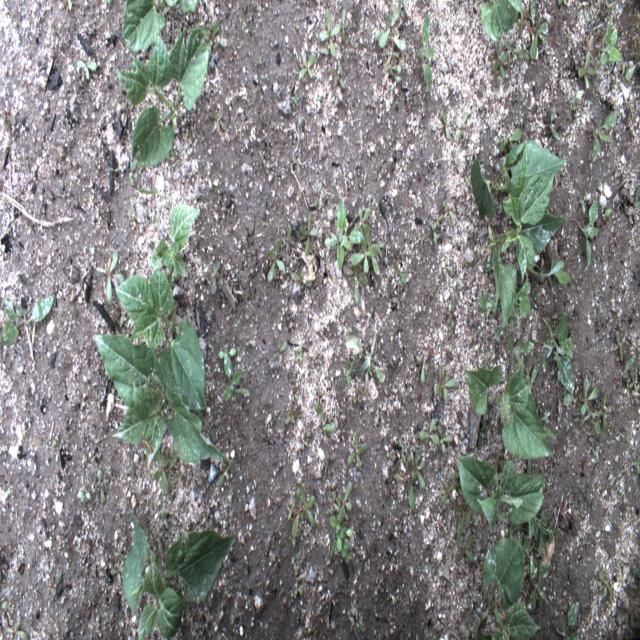crop: (91, 334, 226, 469), (123, 509, 234, 639), (490, 149, 568, 318), (116, 26, 211, 164), (116, 270, 206, 413), (467, 139, 565, 222), (468, 366, 554, 460), (457, 456, 545, 535), (475, 536, 543, 636), (147, 202, 200, 278), (122, 0, 199, 52), (479, 0, 525, 41)
weed: (0, 295, 56, 347), (541, 314, 577, 391), (324, 202, 364, 271), (346, 333, 384, 382), (416, 15, 438, 94), (93, 248, 123, 302), (532, 244, 571, 282), (525, 513, 560, 555), (580, 198, 600, 266), (591, 110, 617, 160), (509, 282, 534, 333), (223, 353, 247, 404), (193, 18, 230, 51), (528, 559, 550, 613), (408, 451, 426, 514), (328, 518, 355, 560), (530, 3, 549, 60), (343, 266, 370, 306), (374, 7, 400, 48), (346, 427, 368, 472), (322, 7, 341, 58), (299, 210, 320, 256), (577, 376, 599, 419), (265, 237, 286, 282), (386, 260, 410, 299), (349, 239, 378, 271), (600, 24, 622, 66), (505, 335, 534, 365), (291, 482, 306, 536), (314, 400, 336, 436), (594, 393, 612, 437), (434, 368, 456, 404), (479, 283, 498, 324), (136, 164, 158, 198), (498, 128, 522, 159), (619, 353, 637, 393), (154, 451, 170, 495), (454, 534, 476, 566), (300, 492, 318, 531), (439, 471, 459, 506), (576, 52, 596, 87), (418, 418, 438, 452), (216, 457, 236, 490), (337, 481, 352, 522), (414, 348, 431, 384), (492, 41, 508, 79), (209, 262, 226, 297), (565, 599, 580, 638), (6, 614, 28, 639), (532, 351, 548, 385), (444, 296, 458, 334), (1, 97, 18, 128), (340, 360, 359, 387), (611, 328, 626, 362), (438, 196, 456, 224), (548, 103, 561, 141), (211, 105, 228, 134), (436, 427, 453, 456), (456, 507, 474, 534), (76, 58, 98, 80), (427, 216, 442, 248), (299, 53, 317, 79), (437, 111, 452, 141), (556, 394, 571, 424), (354, 207, 371, 233), (506, 38, 525, 61), (48, 572, 62, 602), (330, 63, 346, 89), (568, 87, 584, 113), (598, 572, 614, 597), (292, 272, 312, 292), (457, 112, 468, 146), (493, 317, 508, 341), (384, 58, 401, 78), (283, 222, 293, 254), (392, 458, 404, 484), (622, 62, 636, 84), (98, 466, 106, 504), (443, 255, 455, 280), (170, 448, 177, 490), (217, 347, 238, 361), (110, 560, 122, 584), (114, 541, 126, 564), (393, 288, 405, 311), (156, 510, 169, 531), (130, 156, 138, 190), (286, 495, 296, 522), (273, 342, 287, 361), (294, 574, 304, 600), (478, 420, 487, 448), (292, 540, 304, 561), (303, 619, 316, 638), (341, 9, 348, 44), (314, 183, 323, 209), (328, 489, 337, 514), (284, 410, 298, 426), (599, 206, 612, 223), (581, 184, 588, 215), (299, 430, 308, 454), (76, 491, 92, 504), (630, 610, 640, 630), (374, 237, 384, 257), (629, 370, 638, 392), (633, 182, 640, 210), (394, 34, 406, 49), (290, 385, 298, 406), (631, 457, 640, 475), (372, 260, 382, 276), (293, 347, 303, 362), (167, 266, 176, 282), (385, 48, 400, 57), (292, 90, 298, 112), (353, 622, 366, 632), (64, 0, 74, 13), (317, 384, 322, 409), (110, 163, 120, 175), (588, 443, 596, 457), (119, 309, 124, 330), (397, 440, 406, 450), (0, 599, 8, 610), (366, 227, 371, 244), (105, 0, 114, 9), (456, 277, 460, 295), (393, 594, 400, 603), (558, 0, 564, 8)
